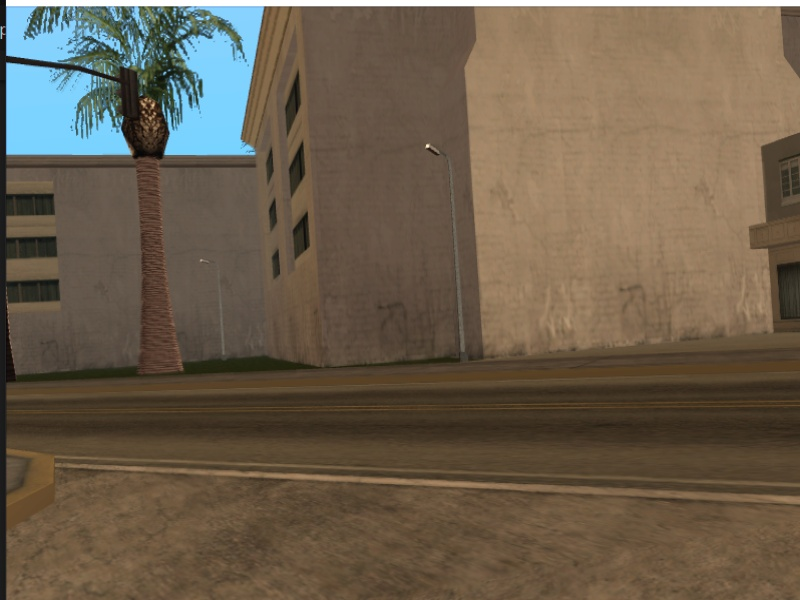pole: (440, 151, 474, 370), (211, 260, 235, 361)
tree: (128, 147, 190, 378)
